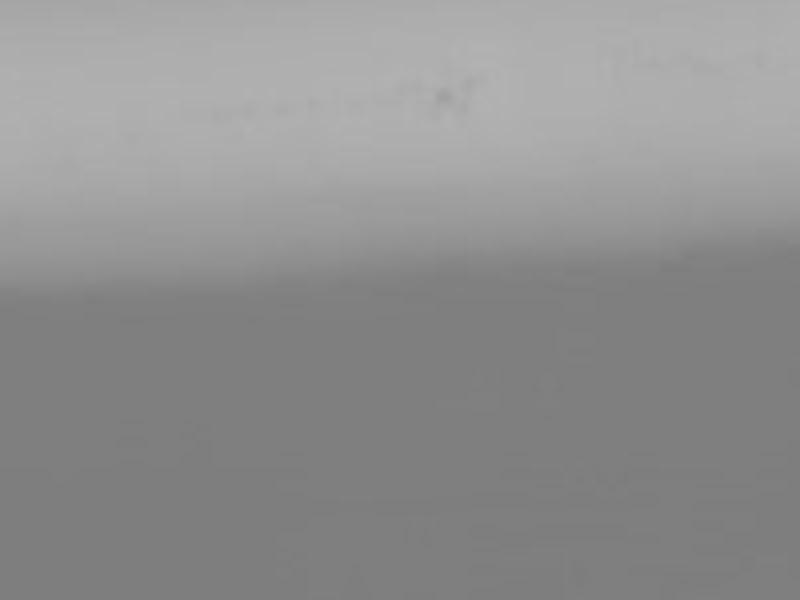defect: (436, 86, 456, 107)
